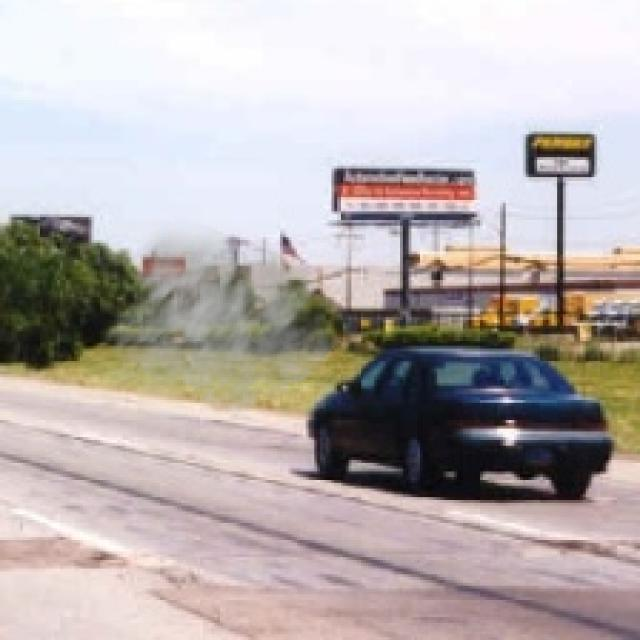smoke: (95, 214, 352, 420)
